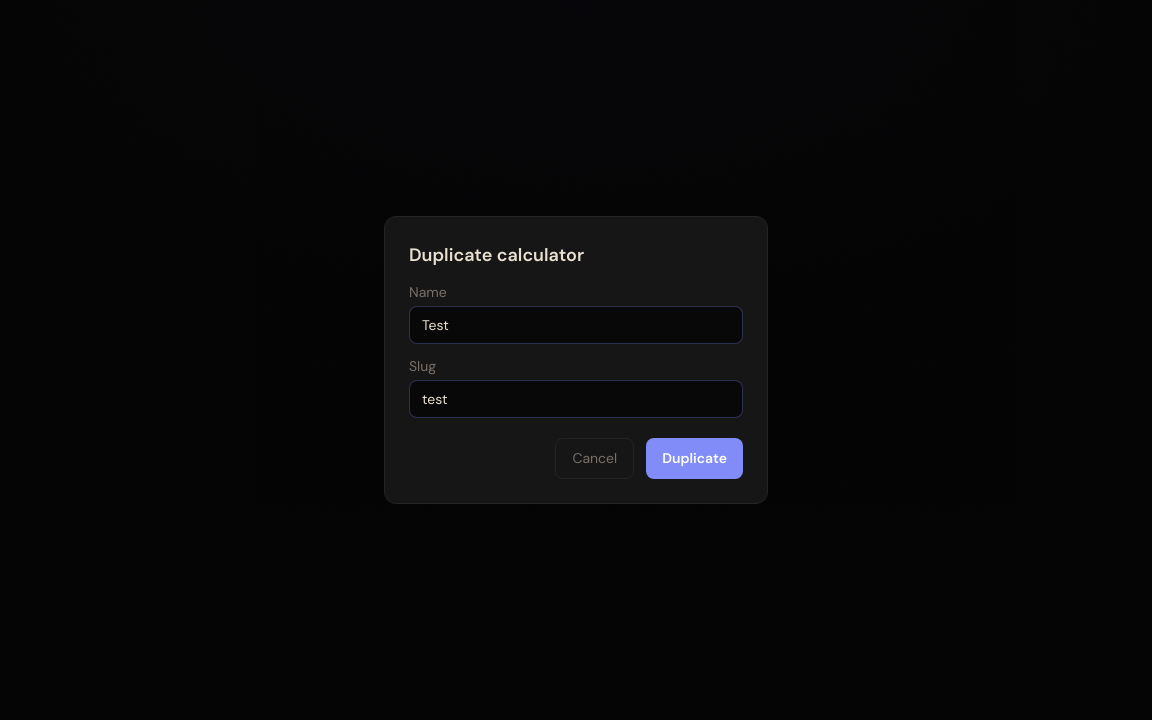
Scenario: DuplicateDialog › disables submit button while loading
Click the button "Duplicate": (695, 458) left=646, top=438, right=743, bottom=479
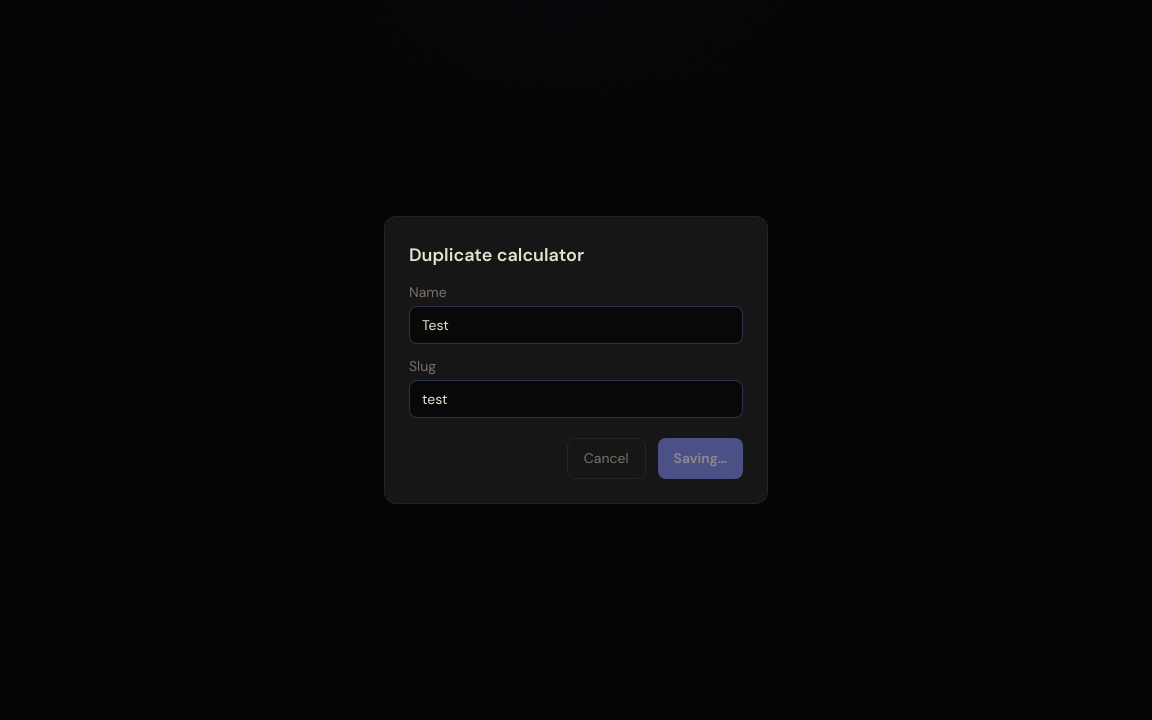
Check: the button named "duplicate" is disabled, box left=658, top=438, right=743, bottom=479
